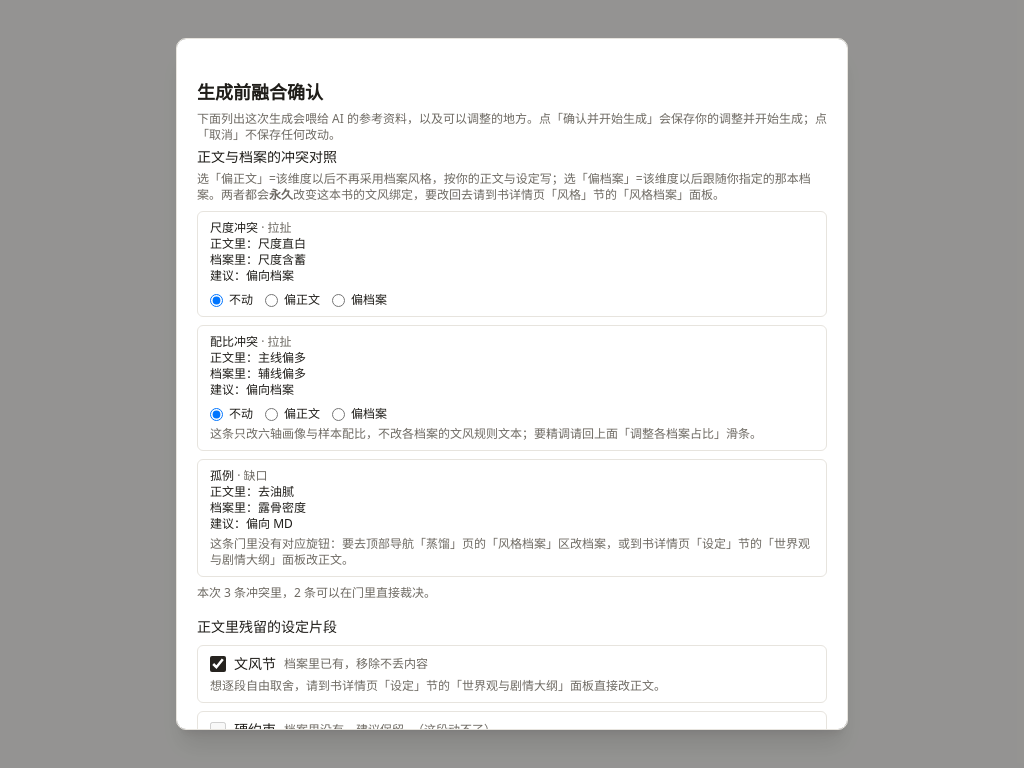
Test: FusionGateDialog（Task-05 门组件） › C2a dim 行「偏正文」→ dimsSource[dim]=__none__，配方区 styleChoice 仍保持现状
This screenshot has width=1024, height=768.
Later steps or results of the test are not shown.
Click the radio button with aria-label "冲突裁决：尺度冲突：偏正文" at (272, 300), box [265, 294, 278, 307]
(page scrolled)
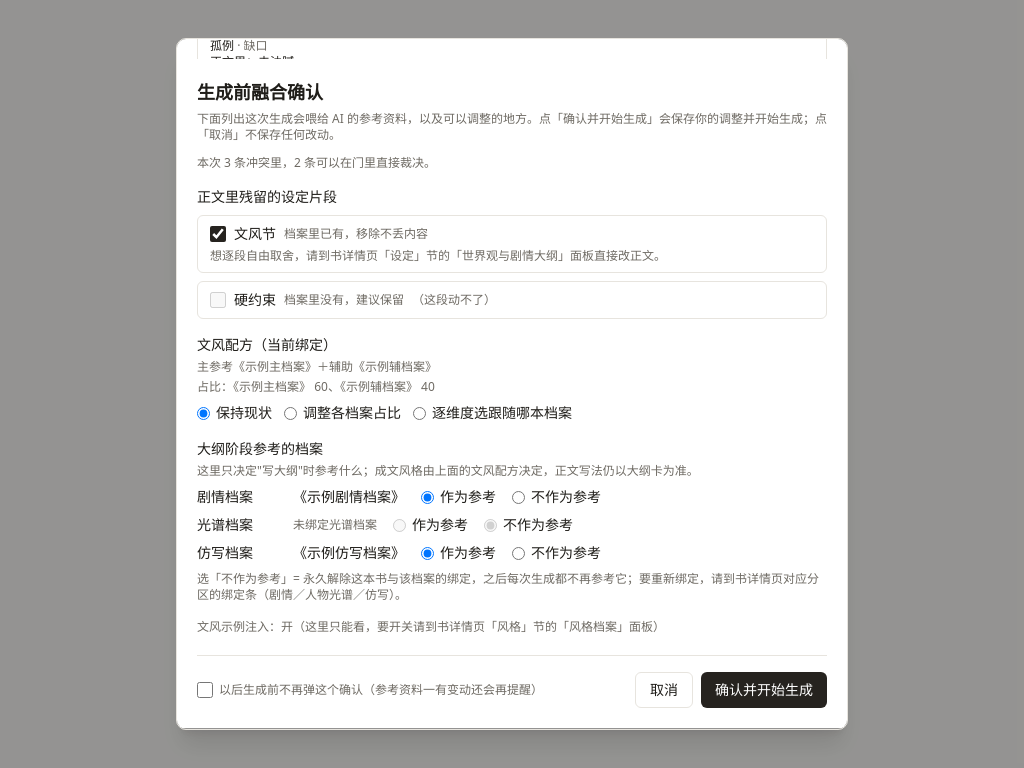
Result: the radio button with aria-label "文风调整：保持现状" is checked at [197, 407, 210, 420]
